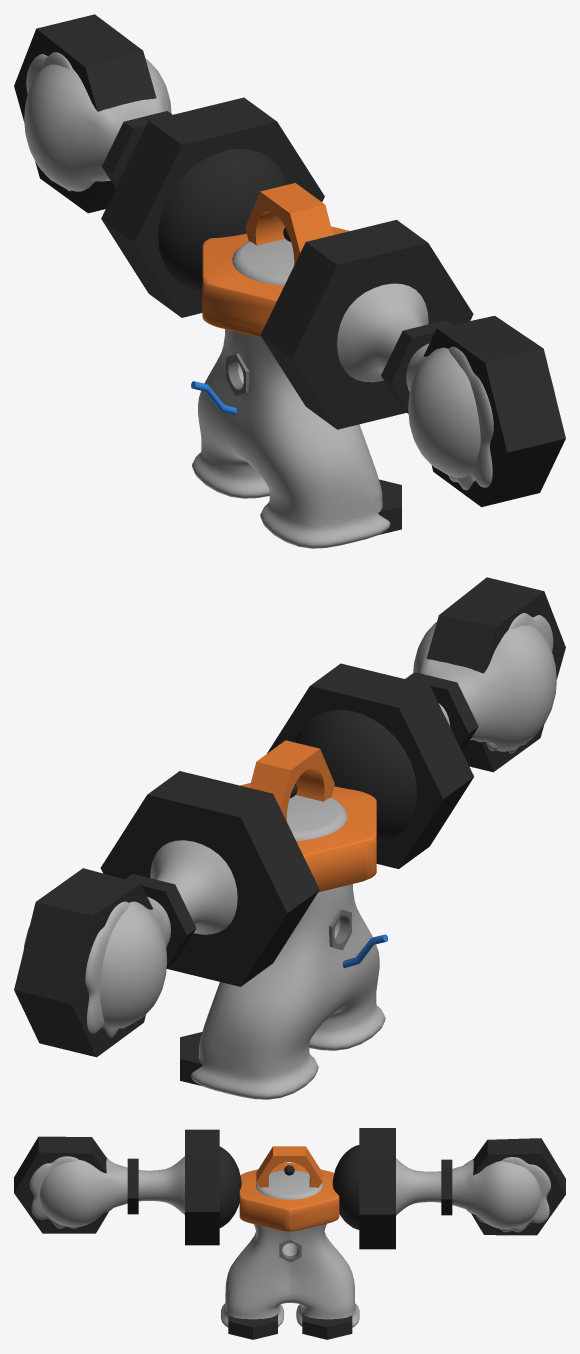
3 views of the same model, one above another, from view 1: azimuth 30°, elevation 25°; view 2: azimuth 150°, elevation 25°; view 3: azimuth 270°, elevation 25° (orthographic). The views are drawn at different scales.
Parts seen in each view (by area): view 1: Object_16, Object_4, Object_22; view 2: Object_16, Object_4, Object_22; view 3: Object_4, Object_16, Object_22.
Boxes of the visible parts, left/top/right/bottom form: Object_16: left=14, top=14, right=565, bottom=534; Object_4: left=24, top=52, right=554, bottom=548; Object_22: left=191, top=353, right=249, bottom=415; Object_16: left=14, top=577, right=565, bottom=1085; Object_4: left=23, top=613, right=556, bottom=1099; Object_22: left=329, top=909, right=387, bottom=968; Object_4: left=29, top=1146, right=550, bottom=1327; Object_16: left=14, top=1128, right=565, bottom=1339; Object_22: left=279, top=1238, right=301, bottom=1262.
Size of the model in its own units: 5 by 7.9 by 22.02.
Materials: 3 (3 with a texture image).
